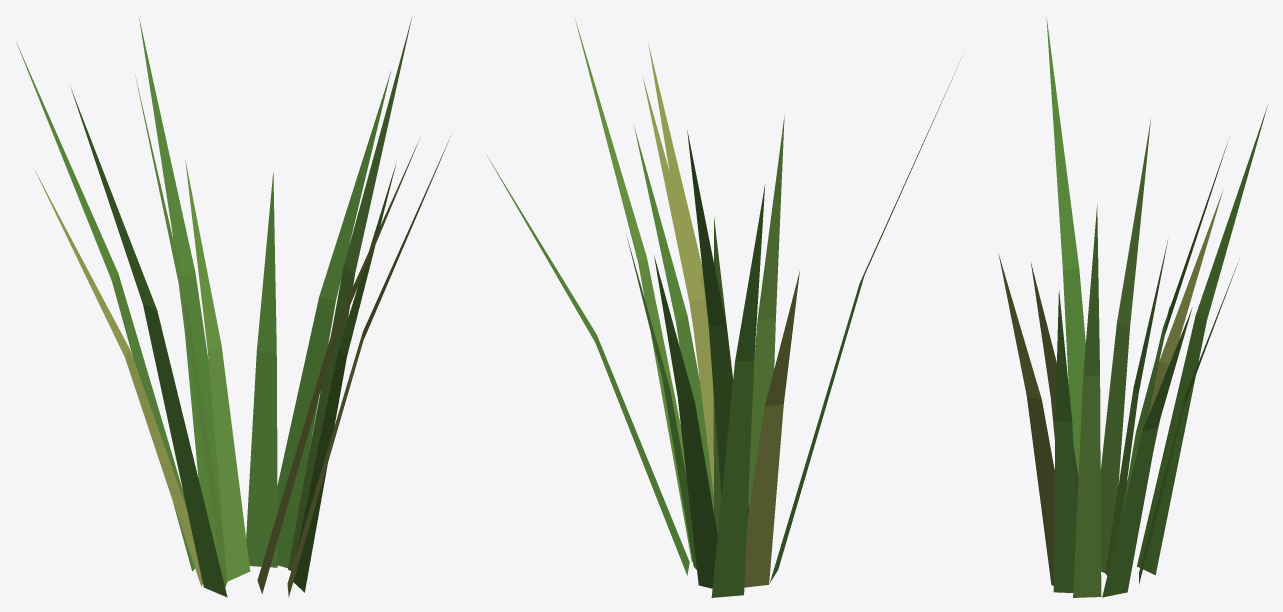
File: Trail_GrassTuft_Tall.obj
3 renders of one model, left to right at view 1: azimuth 30°, elevation 25°; view 2: azimuth 150°, elevation 25°; view 3: azimuth 270°, elevation 25°, orthographic. The views are drawn at different scales.
Visible parts, largest first — view 1: Trail_GrassTuft_Tall; view 2: Trail_GrassTuft_Tall; view 3: Trail_GrassTuft_Tall.
Boxes of the visible parts, bbox=[...] form: Trail_GrassTuft_Tall: bbox=[15, 16, 451, 597]; Trail_GrassTuft_Tall: bbox=[486, 17, 962, 597]; Trail_GrassTuft_Tall: bbox=[998, 15, 1267, 597].
Size of the model in its own units: 0.3365 by 0.4479 by 0.2287.
